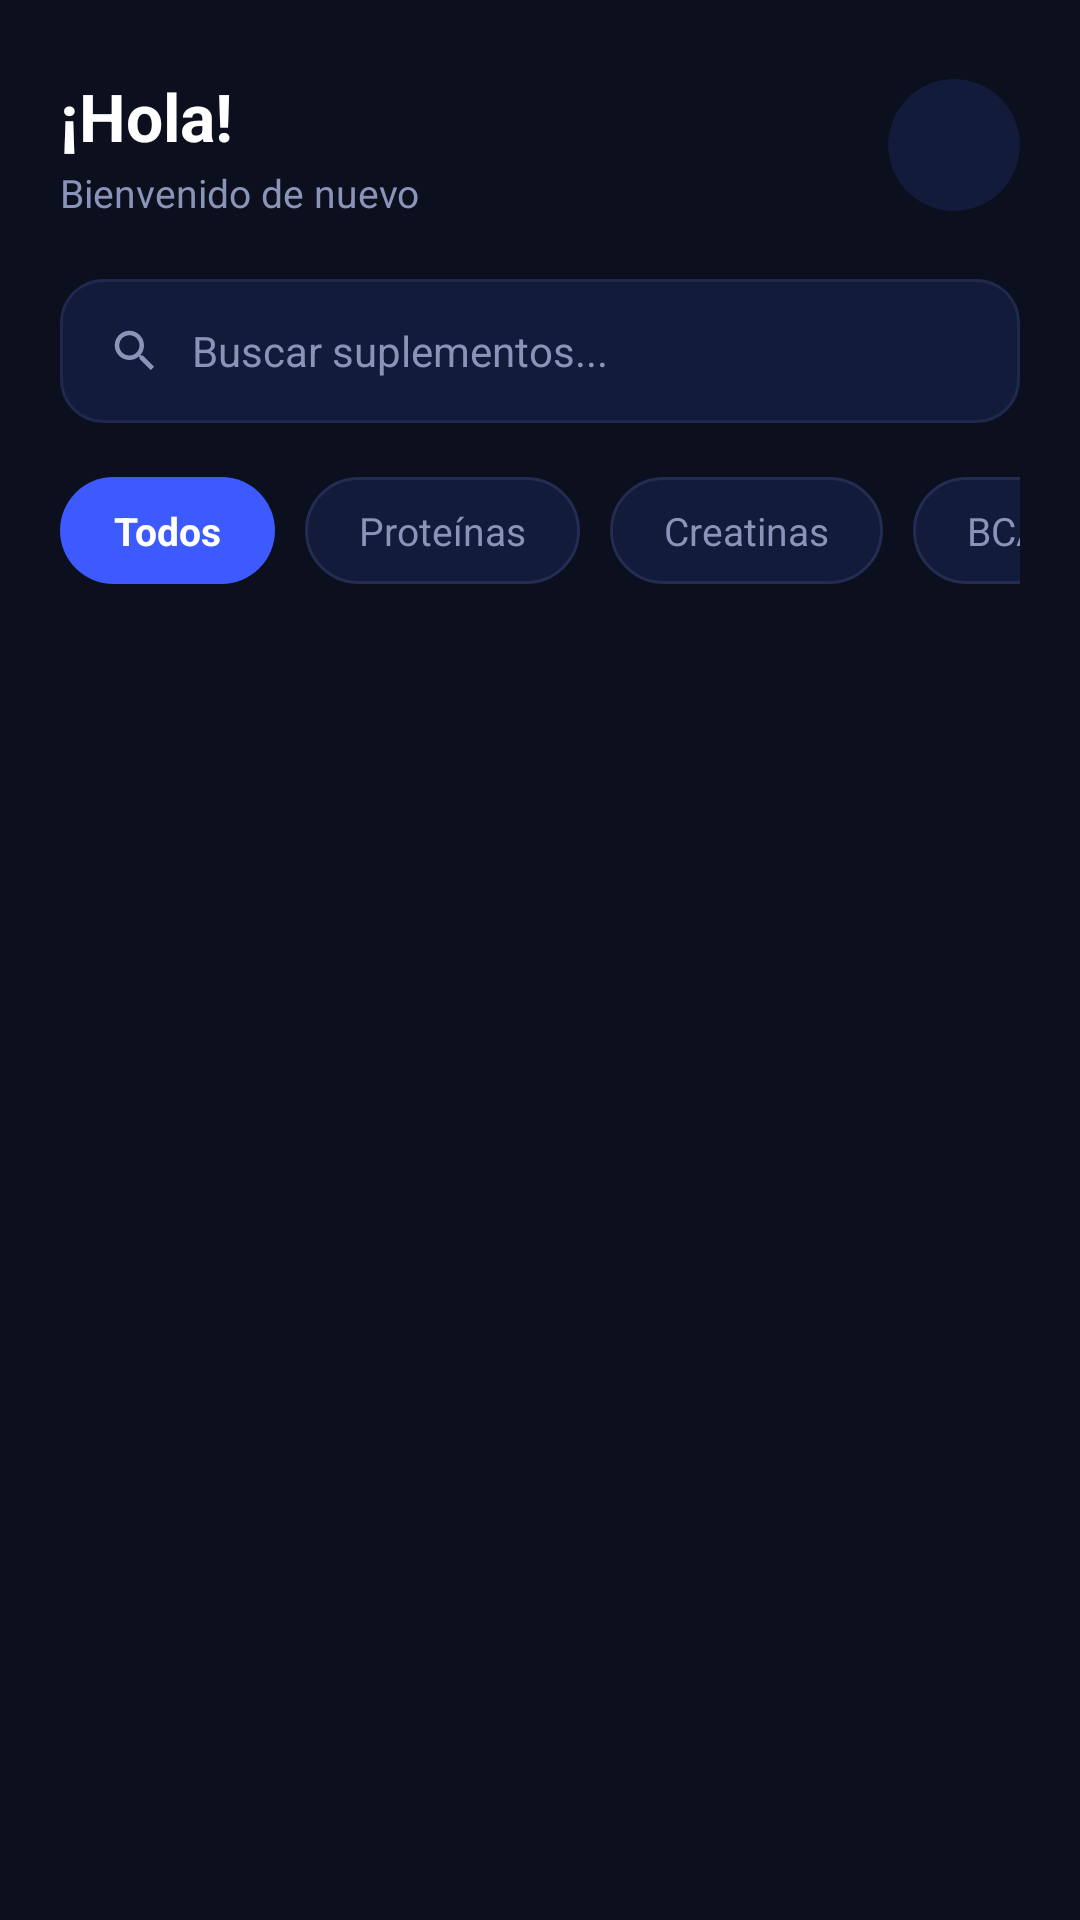

Screen size 1080×1920. Icon name, then its box in pixels as (x1, y1, x2, y2):
search nav: (114, 330, 154, 370)
